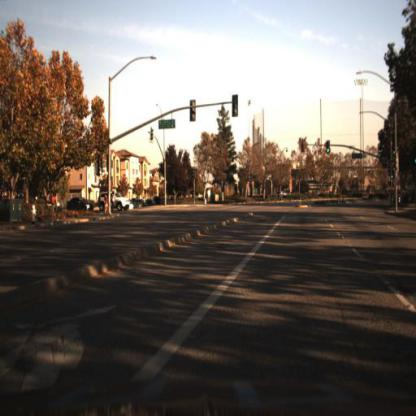car: (98, 189, 134, 216), (100, 190, 131, 213), (68, 197, 93, 213), (104, 194, 110, 216)
pedestrian: (49, 184, 62, 231), (51, 189, 57, 223), (103, 193, 111, 218), (110, 191, 117, 214), (112, 191, 118, 214)
trafficLight-Green: (325, 140, 333, 157), (326, 148, 332, 161)
trafficLight-RedLeft: (300, 139, 306, 152)
